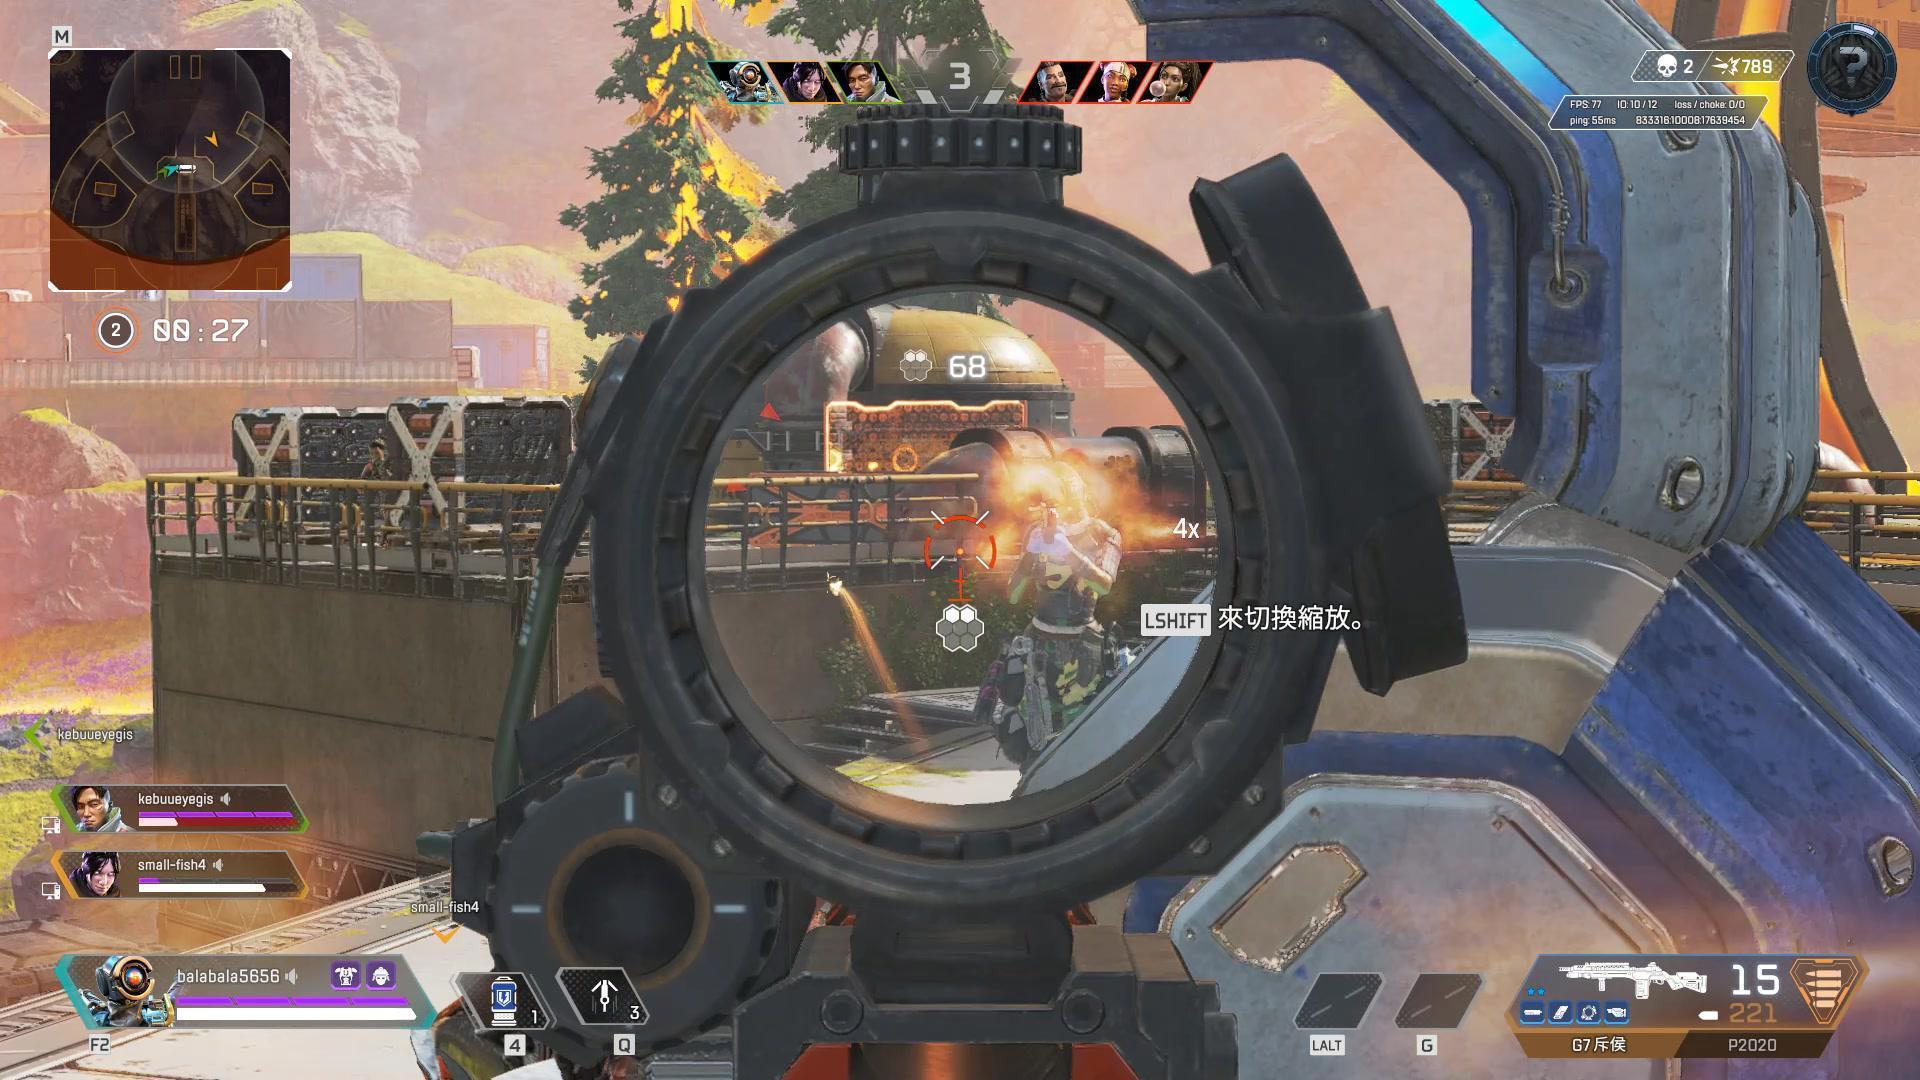avatar: (971, 446, 1138, 775)
